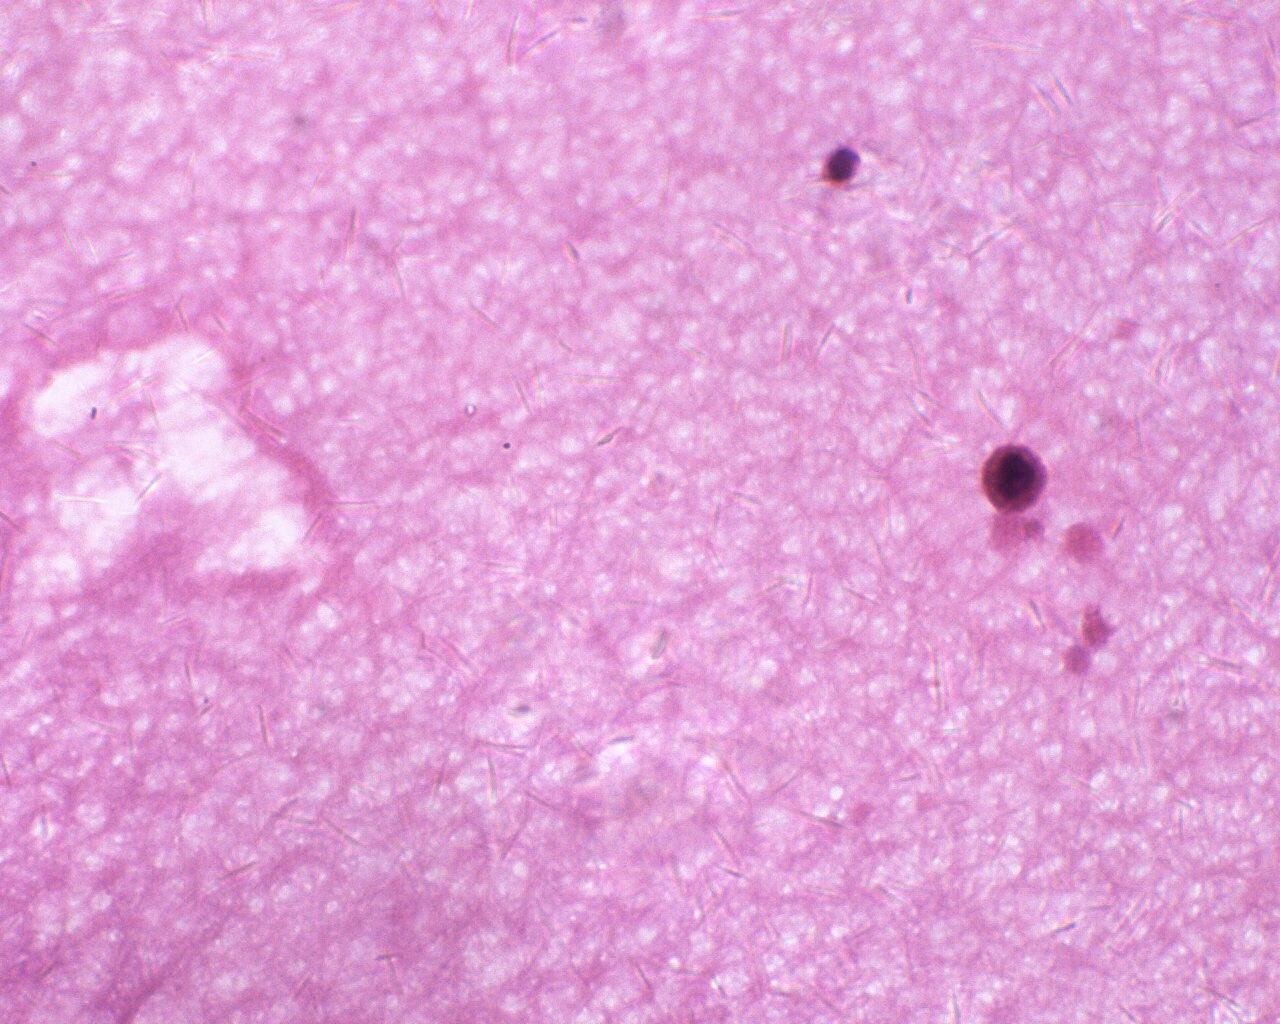ab: (973, 436, 1053, 515)
